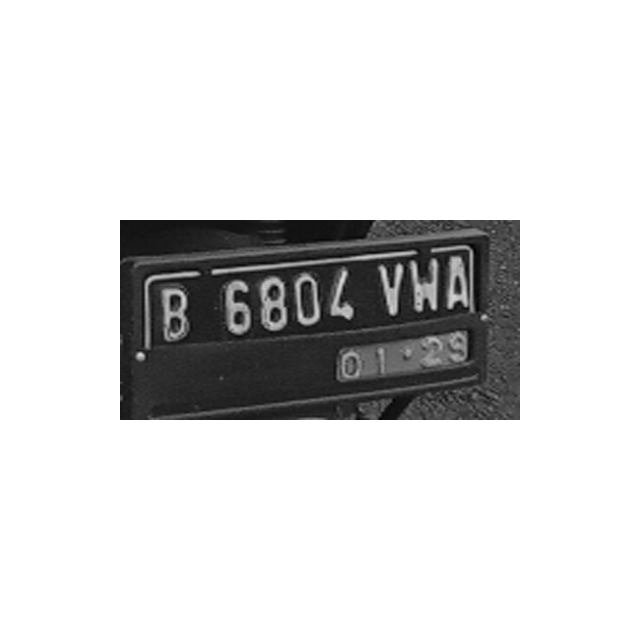contain: (156, 283, 196, 348), (258, 273, 295, 334), (406, 255, 442, 315), (220, 277, 253, 342), (327, 262, 358, 326), (374, 255, 404, 321), (293, 270, 321, 329), (444, 252, 469, 311)
